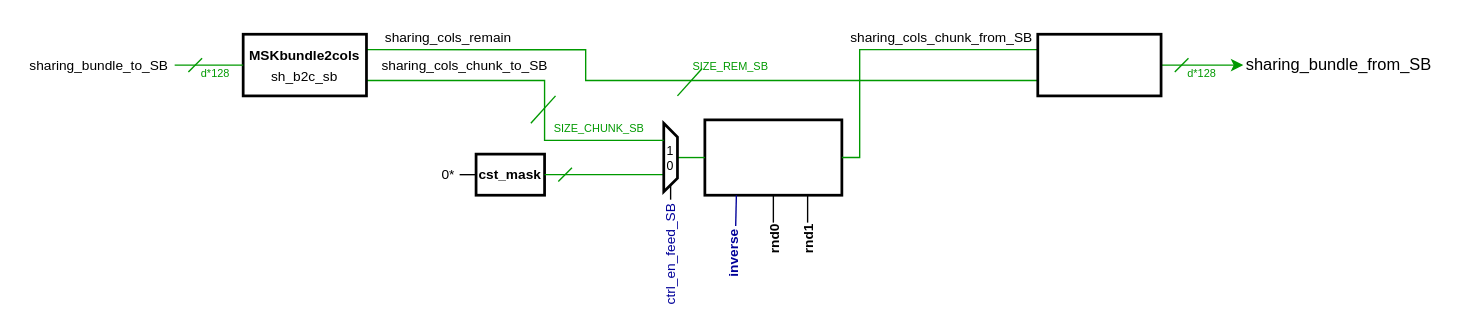
This 1458x333 diagram has some shape labels left out. Each missing label, with the centre of its shape:
MSKcols2bundle sh_c2b_sb: (x=1099, y=64)
MSKsbox_unit_dual SBOX_unit: (x=773, y=157)
